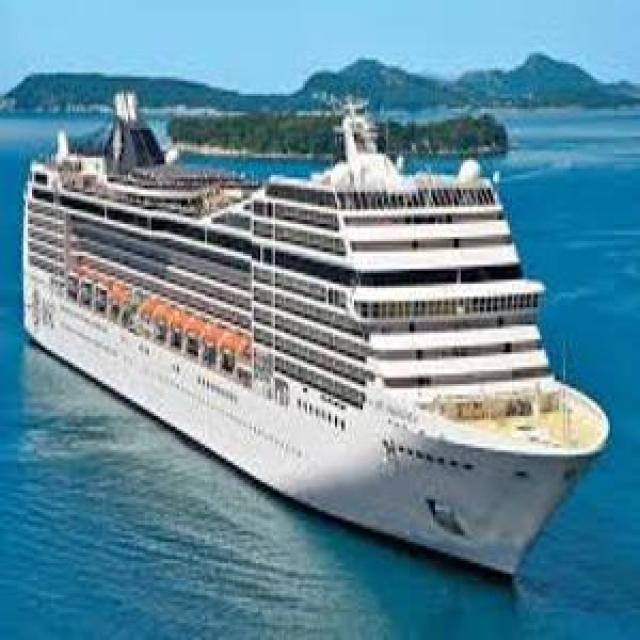passenger ship: (22, 88, 616, 591)
